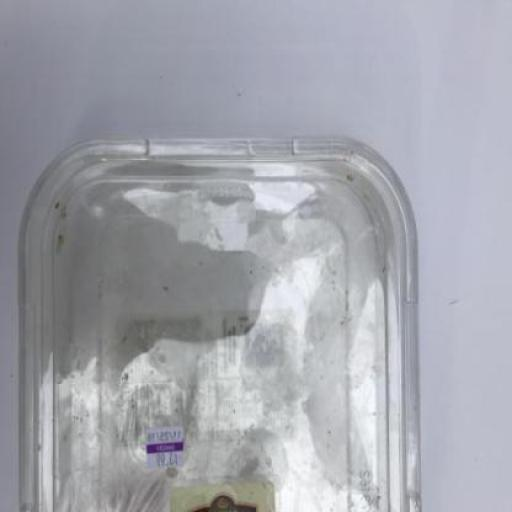plastic: (19, 134, 422, 510)
